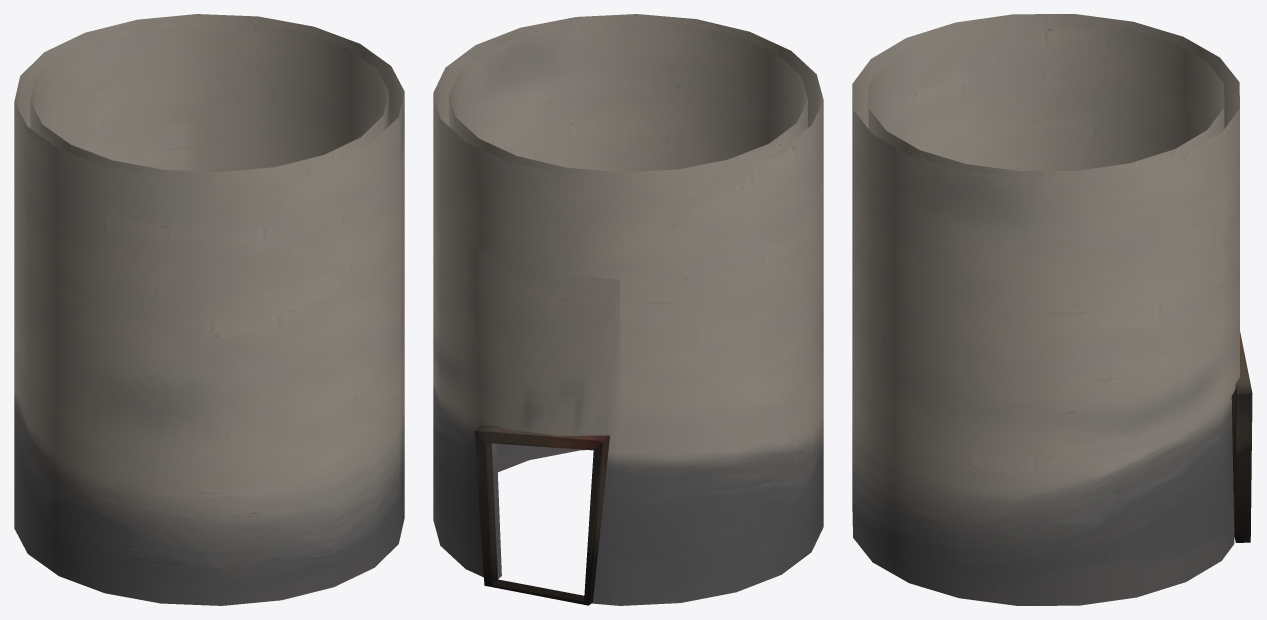
Rendered from exittopmuur.fbx.
The picture shows the model from 3 angles, left to right: view 1: azimuth 30°, elevation 25°; view 2: azimuth 150°, elevation 25°; view 3: azimuth 270°, elevation 25°; orthographic projection.
Visible parts, largest first — view 1: muur1:pCylinder67; view 2: muur1:pCylinder67; view 3: muur1:pCylinder67.
Boxes of the visible parts, <box> form: muur1:pCylinder67: <box>14,14,404,605</box>; muur1:pCylinder67: <box>433,14,823,605</box>; muur1:pCylinder67: <box>852,14,1252,605</box>.
Bounding box in the file's own units: 17.91 × 21.83 × 18.48.
